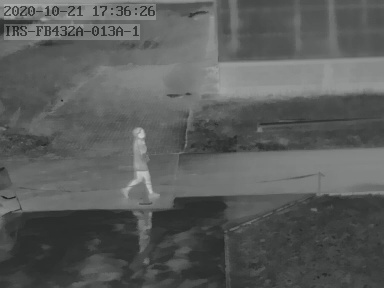person: (127, 123, 154, 196)
